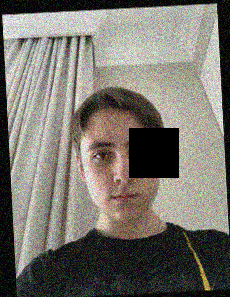without_mask: (82, 132, 161, 222)
